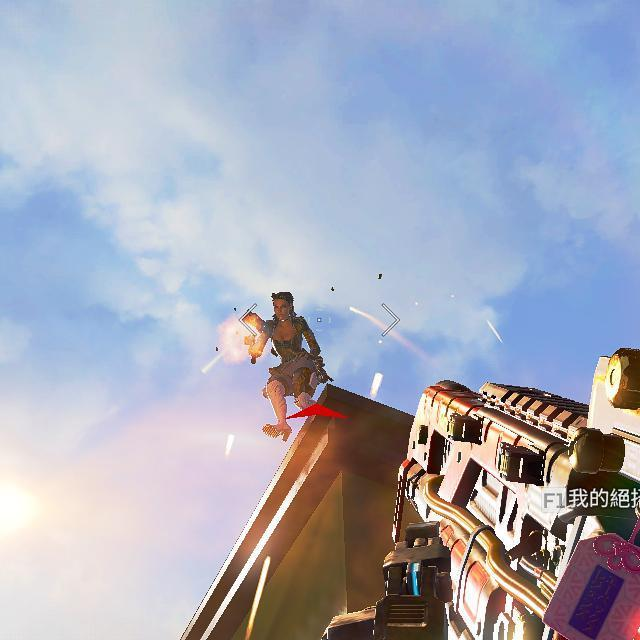avatar: (242, 291, 334, 441)
